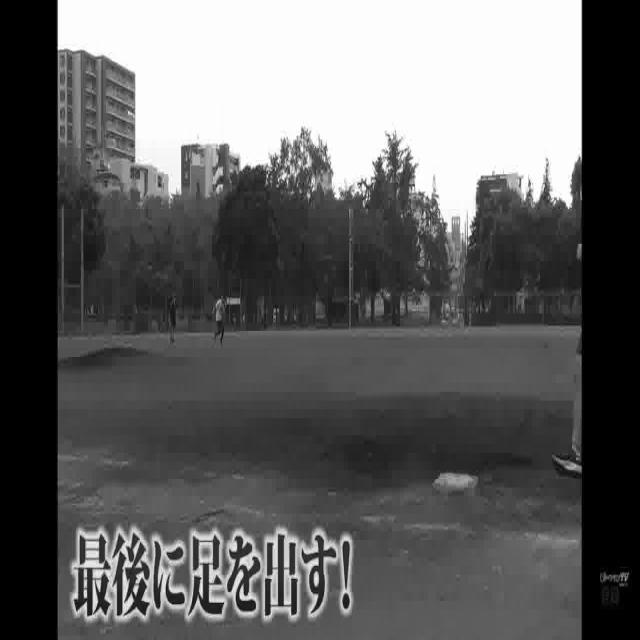base: (432, 474, 481, 494)
shoe: (555, 456, 583, 473)
